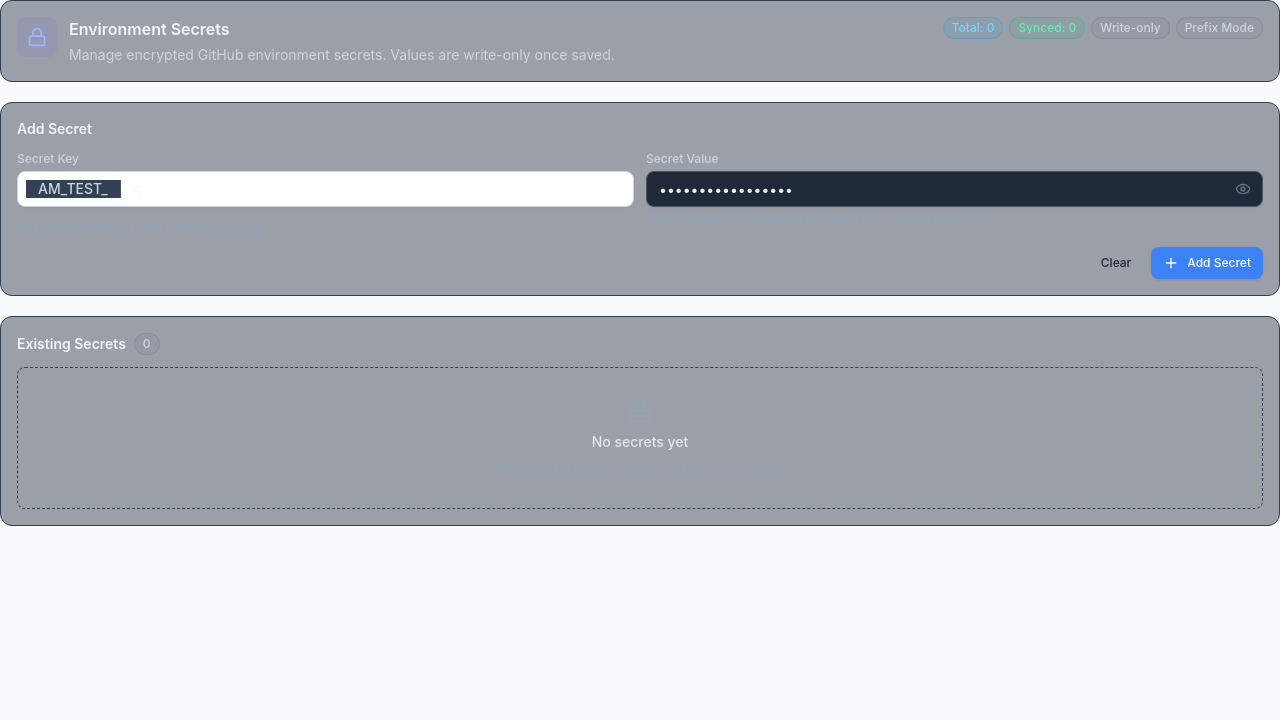
Test case: Secrets redesigned UI › surfaces backend error without leaking the secret value
Click the button with test id "secrets-add-submit" at (1207, 263), box top-left (1151, 247), bottom-right (1263, 279)
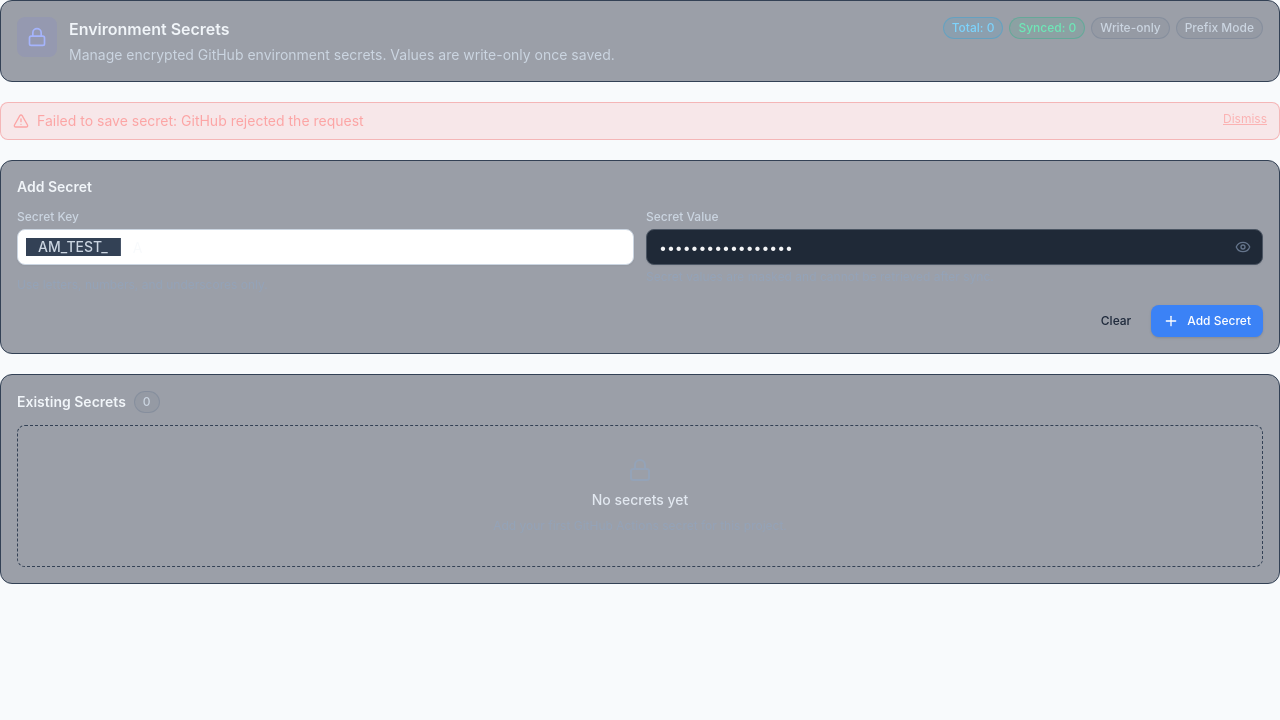
Expected: the message does not show "super-leaky-value", top-left (0, 102), bottom-right (1279, 140)
Expected: the message shows "Failed to save secret", top-left (37, 112), bottom-right (364, 129)
